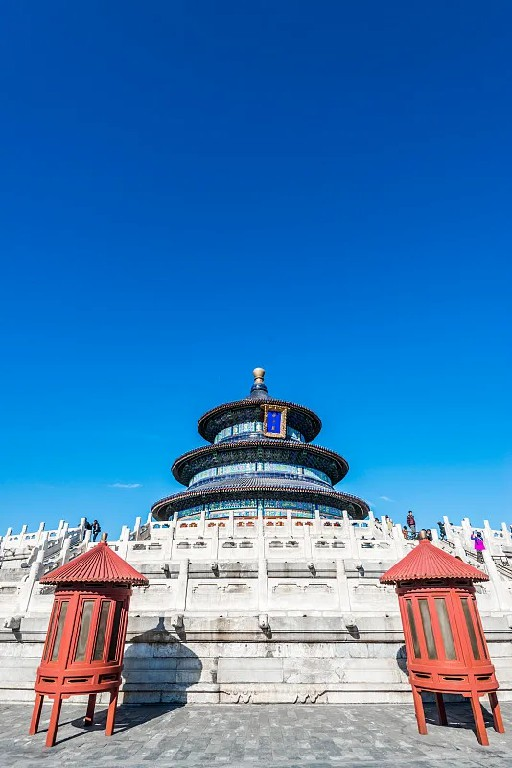Heaven: (148, 366, 369, 519)
